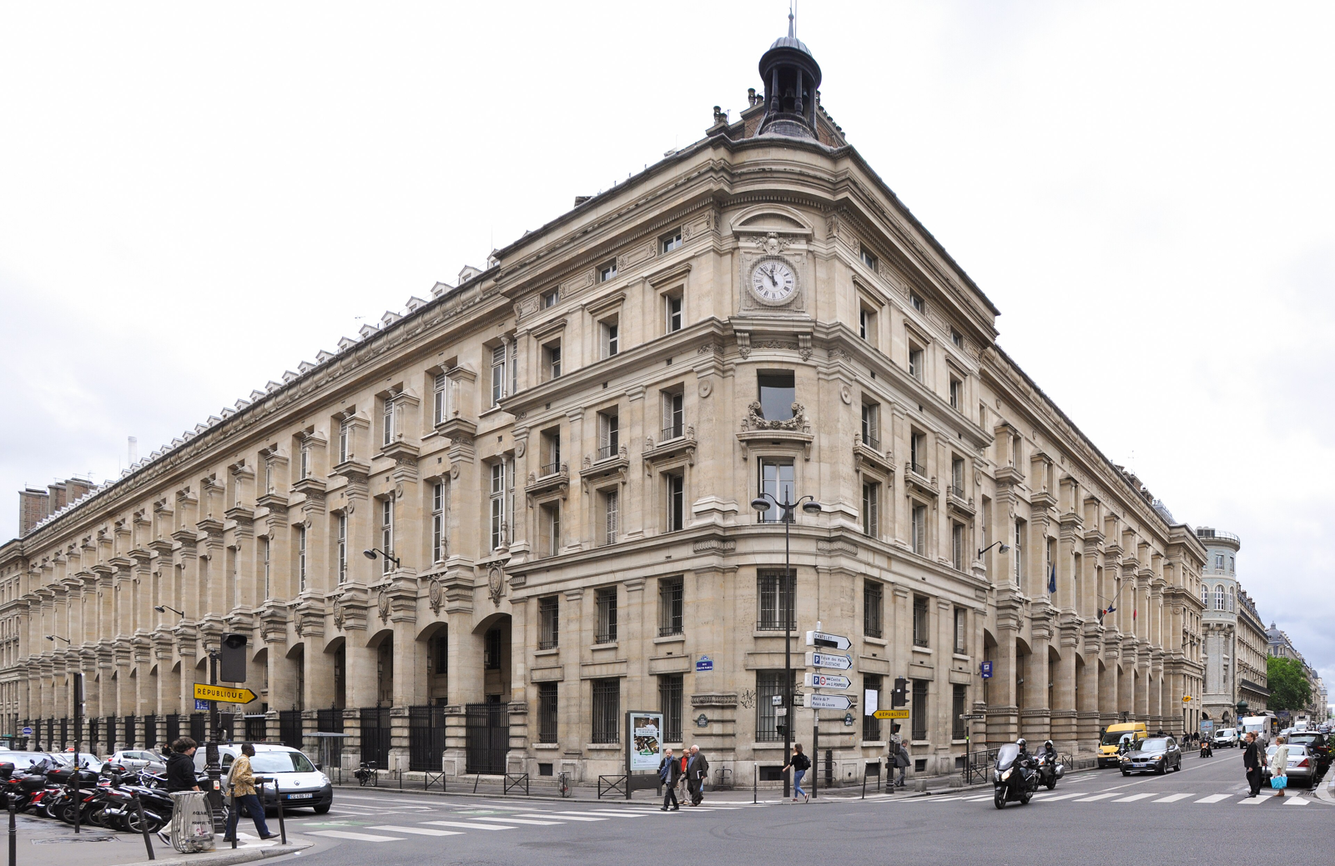fachada: (0, 48, 1210, 765), (1185, 488, 1335, 736)
poste: (768, 486, 834, 806)
